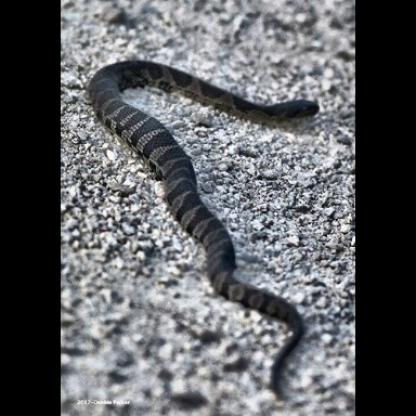Snake: (96, 43, 322, 383)
